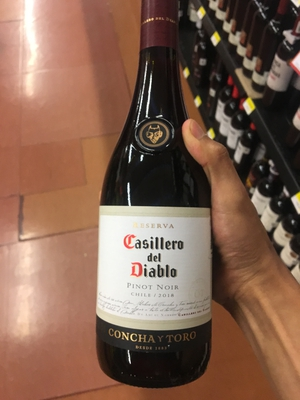casillero del diablo pinot noir: (94, 24, 221, 386)
